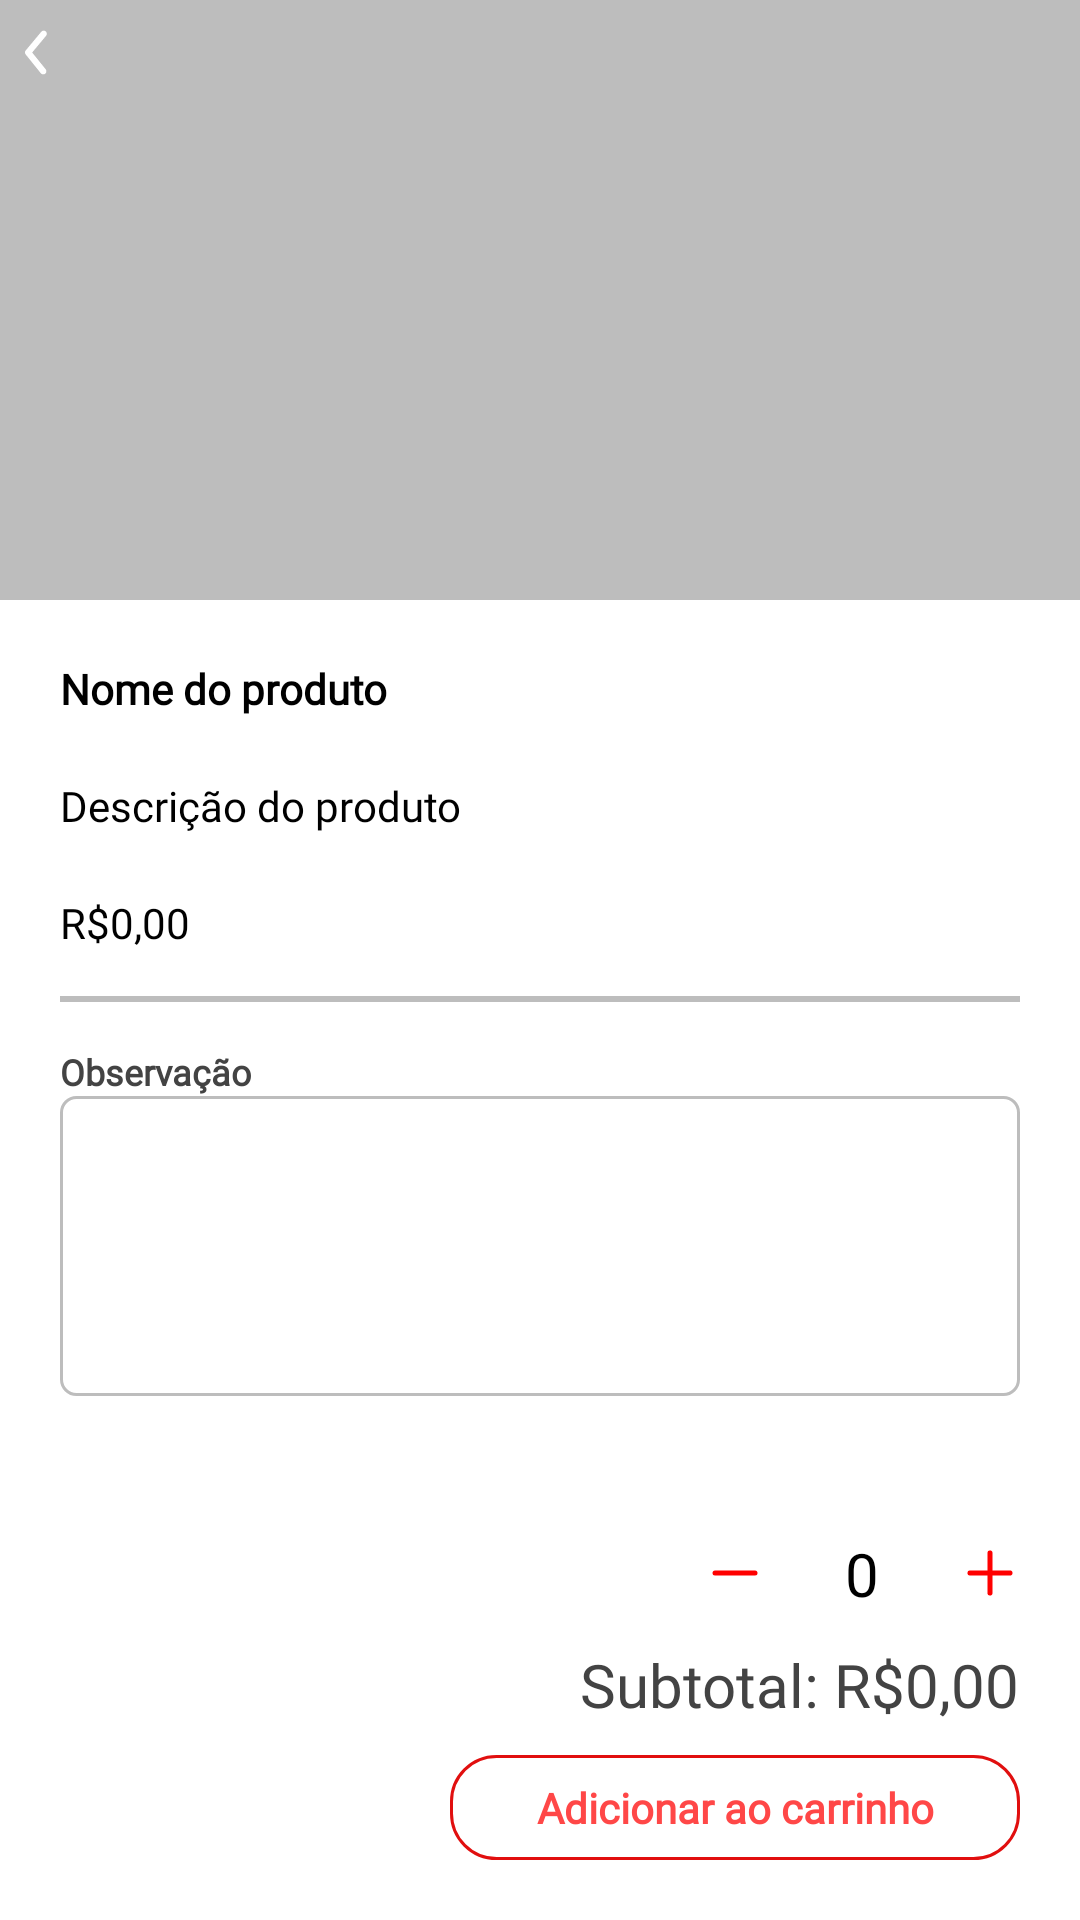

Icons on this 1080w x 1920h Android screen, each with its box as detection(x1, y1, x2, y2):
back: detection(25, 31, 47, 74)
plus: detection(967, 1550, 1013, 1596)
